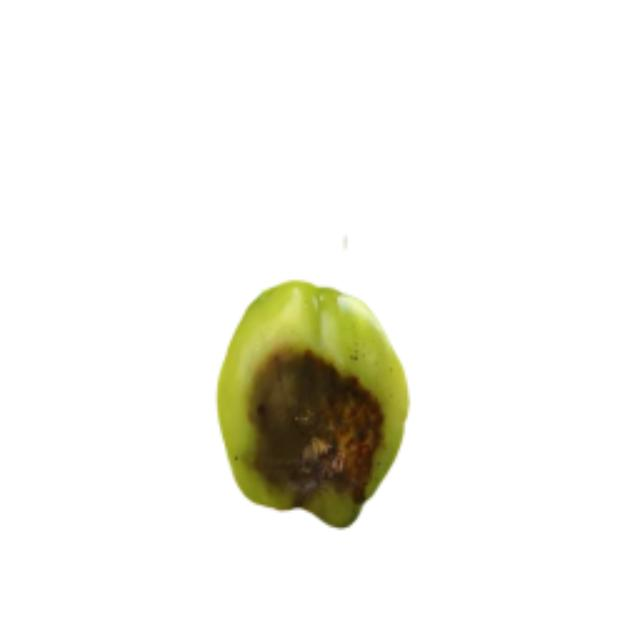defect: (211, 273, 413, 531)
